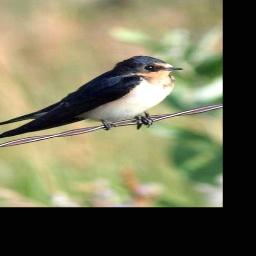Swallow: (0, 53, 186, 143)
